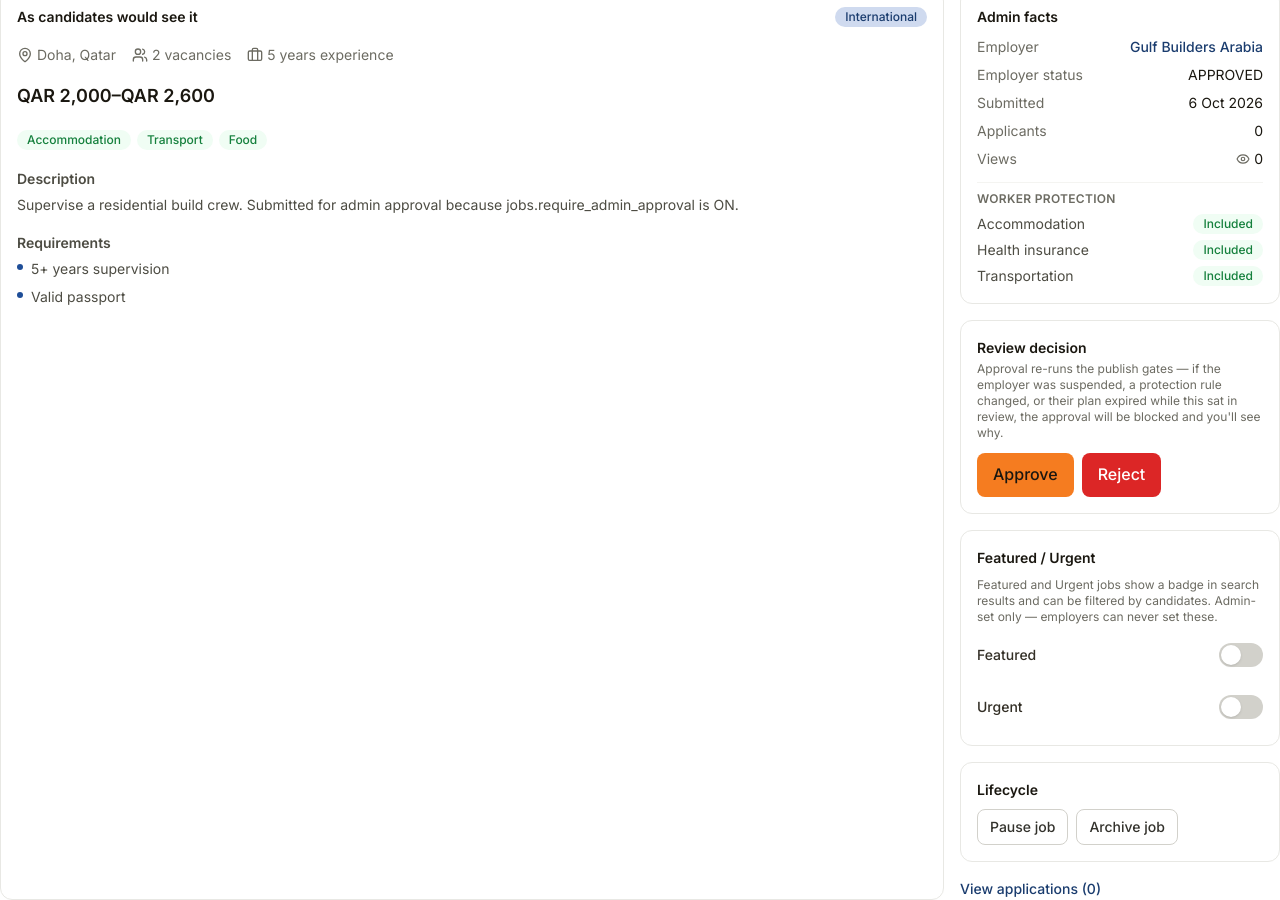
Scenario: FlagsControl + lifecycle › an illegal transition (409) renders as a CALM state, not an error
The image size is (1280, 900).
(page scrolled)
Click the button "Pause job" at (1023, 827), box [977,809,1068,845]
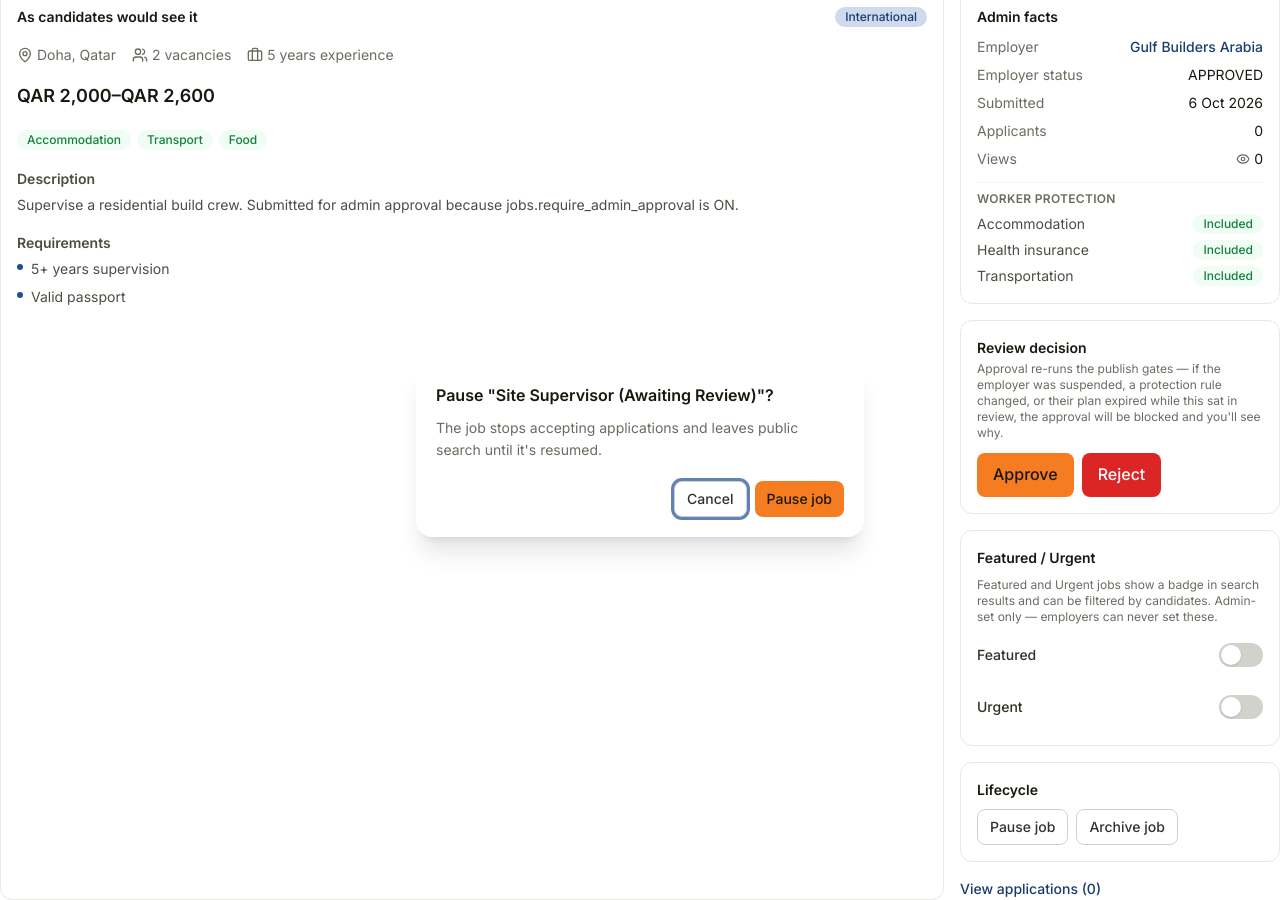
Click the button "Pause job" at (799, 499), box [755,481,844,517]
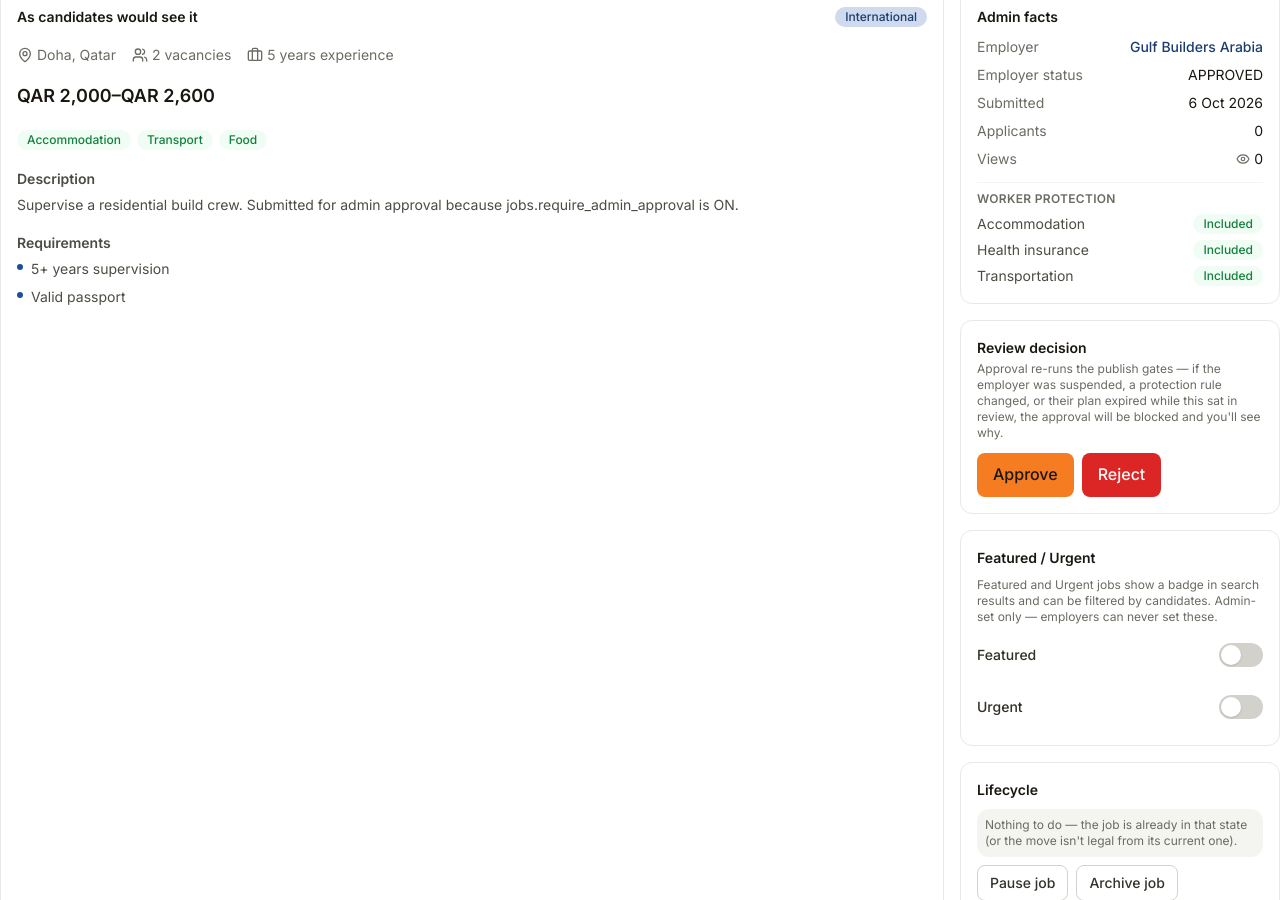
Result: the text "already in that state" is shown at [985,817,1247,848]
